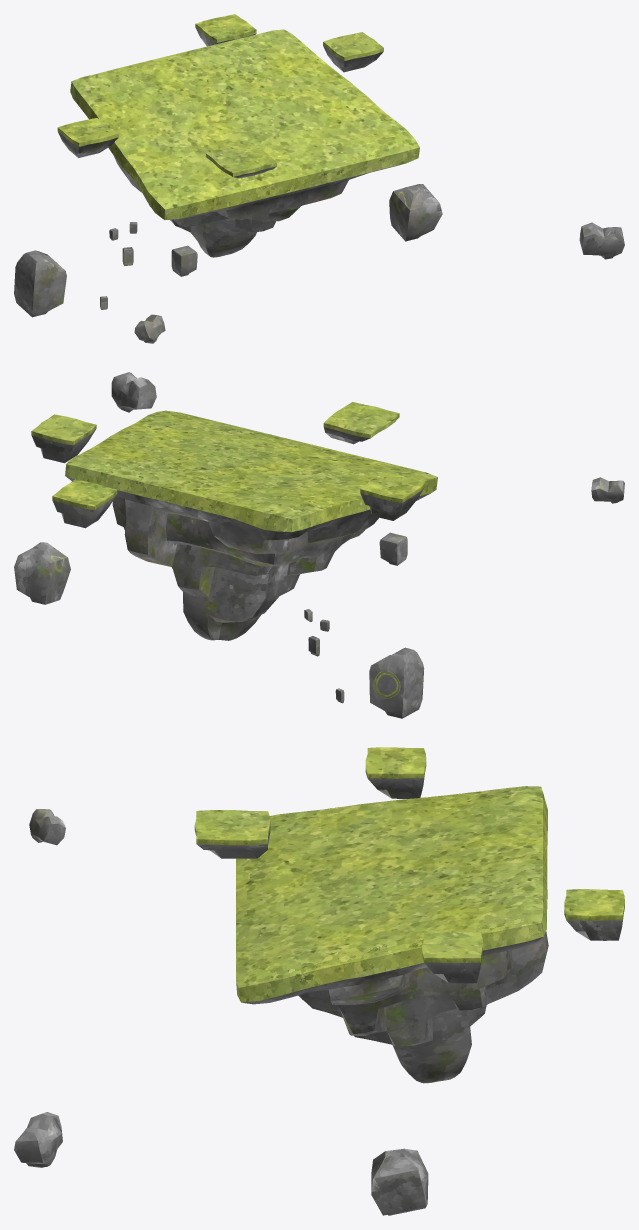
The model's file is SkyLand.fbx.
3 renders of one model, top to bottom at view 1: azimuth 30°, elevation 25°; view 2: azimuth 150°, elevation 25°; view 3: azimuth 270°, elevation 25°, orthographic. The views are drawn at different scales.
Visible parts, largest first — view 1: Plane, Cube.001, Cube, Cube.009, Cube.011, Cube.010, Cube.012, Cube.008, Cube.002, Cube.013; view 2: Plane, Cube.001, Cube, Cube.011, Cube.008, Cube.009, Cube.010, Cube.012, Cube.002, Cube.013; view 3: Plane, Cube.010, Cube, Cube.011, Cube.009, Cube.008, Cube.012, Cube.013.
Part boxes in pixels (<box>): Plane: <box>70,29,419,257</box>; Cube.001: <box>14,250,66,317</box>; Cube: <box>389,184,442,241</box>; Cube.009: <box>57,118,118,157</box>; Cube.011: <box>323,32,383,72</box>; Cube.010: <box>206,142,276,177</box>; Cube.012: <box>579,222,624,259</box>; Cube.008: <box>195,14,256,46</box>; Cube.002: <box>171,245,197,276</box>; Cube.013: <box>134,314,165,343</box>; Plane: <box>65,410,437,640</box>; Cube.001: <box>369,647,424,718</box>; Cube: <box>14,542,70,604</box>; Cube.011: <box>31,414,96,463</box>; Cube.008: <box>52,479,117,528</box>; Cube.009: <box>360,472,425,520</box>; Cube.010: <box>323,402,399,444</box>; Cube.012: <box>111,372,156,412</box>; Cube.002: <box>379,532,407,565</box>; Cube.013: <box>591,477,624,503</box>; Plane: <box>236,786,548,1083</box>; Cube.010: <box>194,810,270,858</box>; Cube: <box>371,1148,428,1215</box>; Cube.011: <box>422,931,482,983</box>; Cube.009: <box>365,747,426,798</box>; Cube.008: <box>564,889,624,940</box>; Cube.012: <box>14,1112,62,1167</box>; Cube.013: <box>29,809,65,845</box>.
Bounding box in the file's own units: 13588 × 5341 × 11274.
